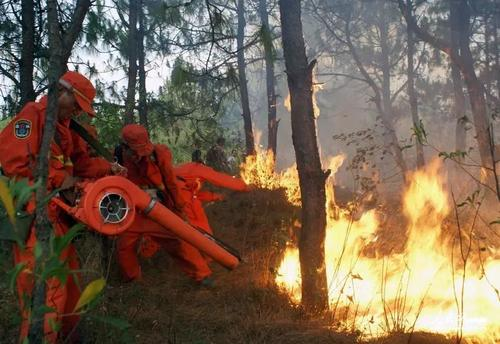fire: (323, 169, 500, 341), (240, 148, 298, 201), (275, 244, 303, 301)
